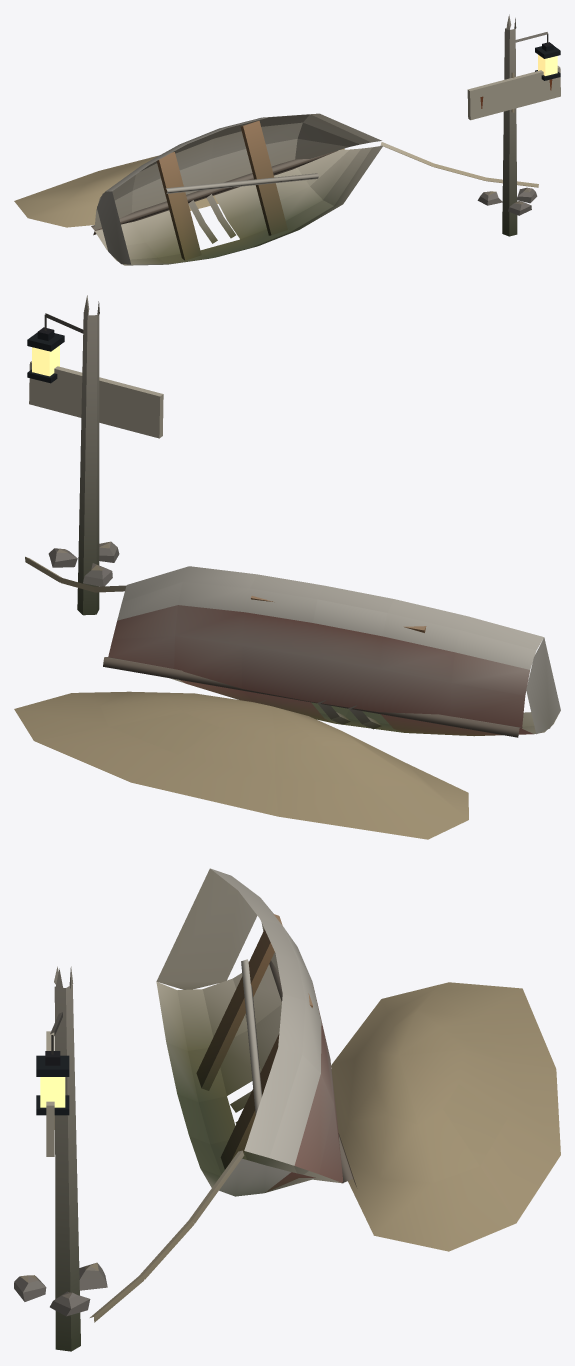
Rendered from wreck_dinghy.glb.
3 views of the same model, one above another, from view 1: azimuth 30°, elevation 25°; view 2: azimuth 150°, elevation 25°; view 3: azimuth 270°, elevation 25° (orthographic). The views are drawn at different scales.
Visible parts, largest first — view 1: hull, epitaph, epitaph_lamp; view 2: hull, epitaph, epitaph_lamp; view 3: hull, epitaph, epitaph_lamp.
Part boxes in pixels (x1,y1,x2,y2): hull: (14, 113, 538, 265); epitaph: (467, 14, 560, 236); epitaph_lamp: (538, 54, 557, 75); hull: (14, 556, 560, 839); epitaph: (27, 295, 163, 615); epitaph_lamp: (32, 345, 59, 376); hull: (90, 868, 560, 1322); epitaph: (14, 966, 107, 1351); epitaph_lamp: (40, 1077, 65, 1107).
Bounding box in the file's own units: 5.08 × 2.53 × 3.29.
